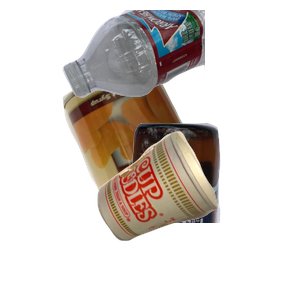glass: (29, 120, 242, 300)
metal: (60, 58, 300, 238)
plastic: (60, 10, 300, 100)
trash: (95, 129, 300, 300)
